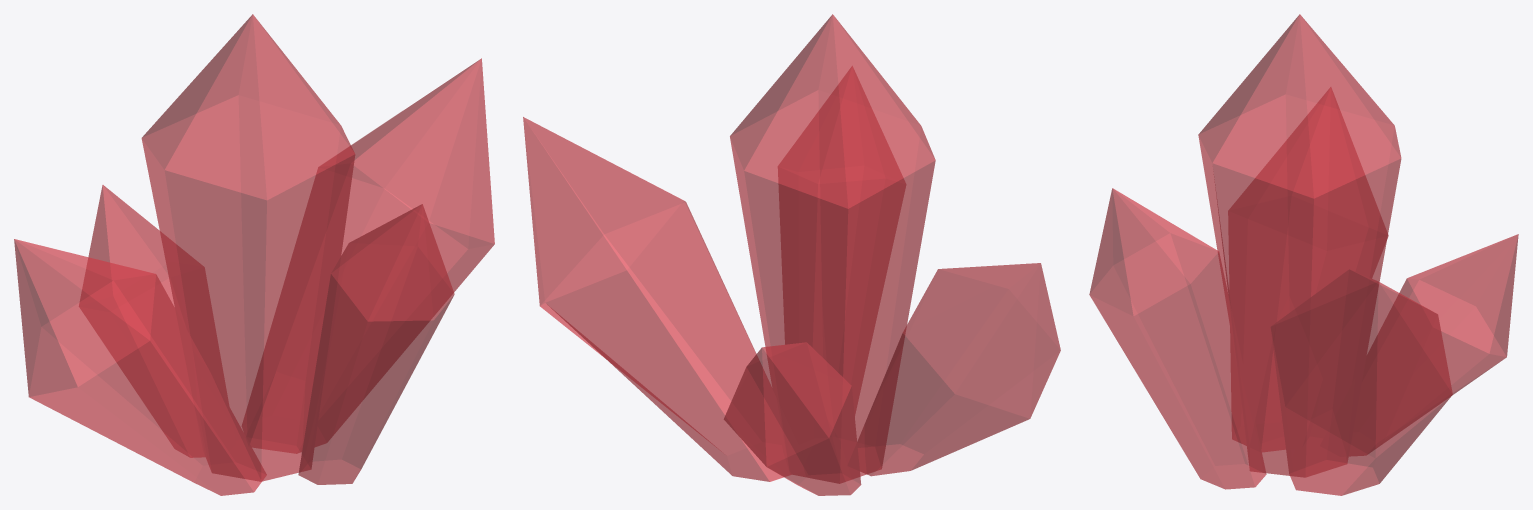
File: SM_Rewards_GemR.fbx
3 views of the same model, side by side, from view 1: azimuth 30°, elevation 25°; view 2: azimuth 150°, elevation 25°; view 3: azimuth 270°, elevation 25° (orthographic).
Visible parts, largest first — view 1: SM_Rewards_GemR; view 2: SM_Rewards_GemR; view 3: SM_Rewards_GemR.
Part boxes in pixels (bbox=[...]): SM_Rewards_GemR: bbox=[14, 14, 494, 495]; SM_Rewards_GemR: bbox=[523, 14, 1060, 495]; SM_Rewards_GemR: bbox=[1089, 14, 1518, 495].
Size of the model in its own units: 45.13 by 39.05 by 34.43.
